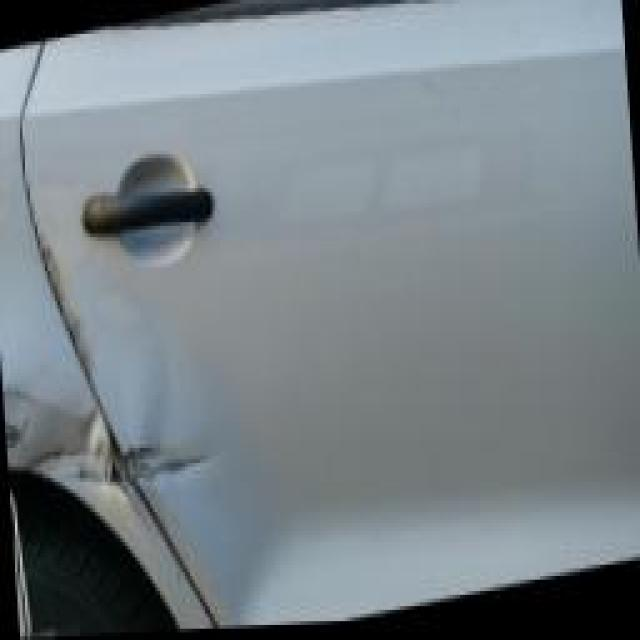Door: (105, 200, 250, 492)
Fender: (0, 264, 128, 544)
